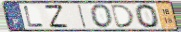D: (110, 4, 137, 29)
I: (77, 4, 88, 29)
L: (23, 5, 46, 28)
O: (134, 3, 161, 29), (89, 4, 114, 29)
Z: (43, 4, 70, 29)
